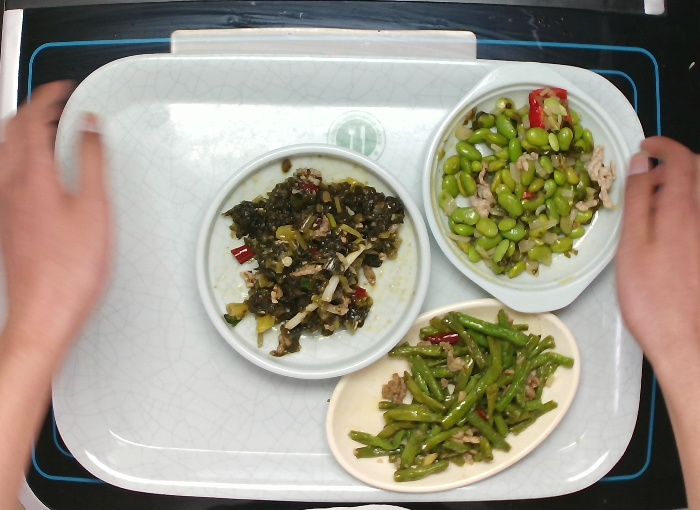JYsf-Shuang_Er_Pan: (414, 58, 630, 311)
JYsf-Tuo_Yuan_Wan: (321, 296, 587, 493)
JYsf-Xiao_Yuan_Pan: (190, 144, 435, 386)
